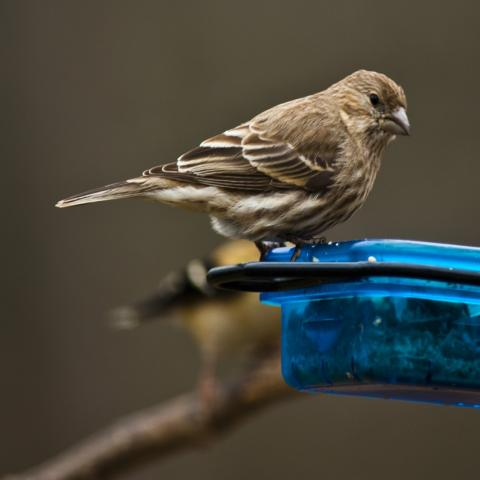bird: (53, 66, 412, 262)
